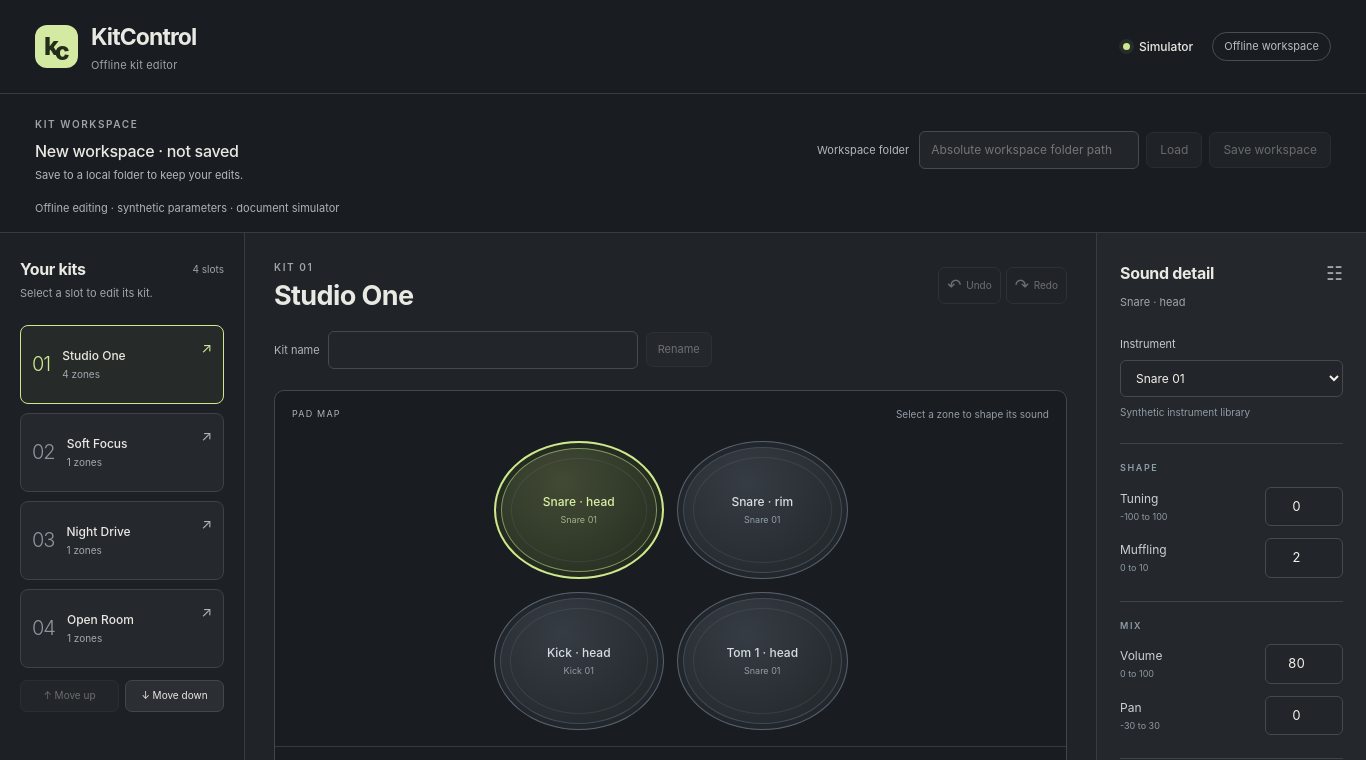
it: kit editing through the Rust dispatcher › sends parameter edits to the core and restores complete documents on undo and redo
Check: the heading "Studio One" is shown, box top-left (274, 280), bottom-right (413, 312)
Replace the text in the number field labelled "Tuning" with "12" at (1304, 506), box top-left (1265, 486), bottom-right (1343, 526)
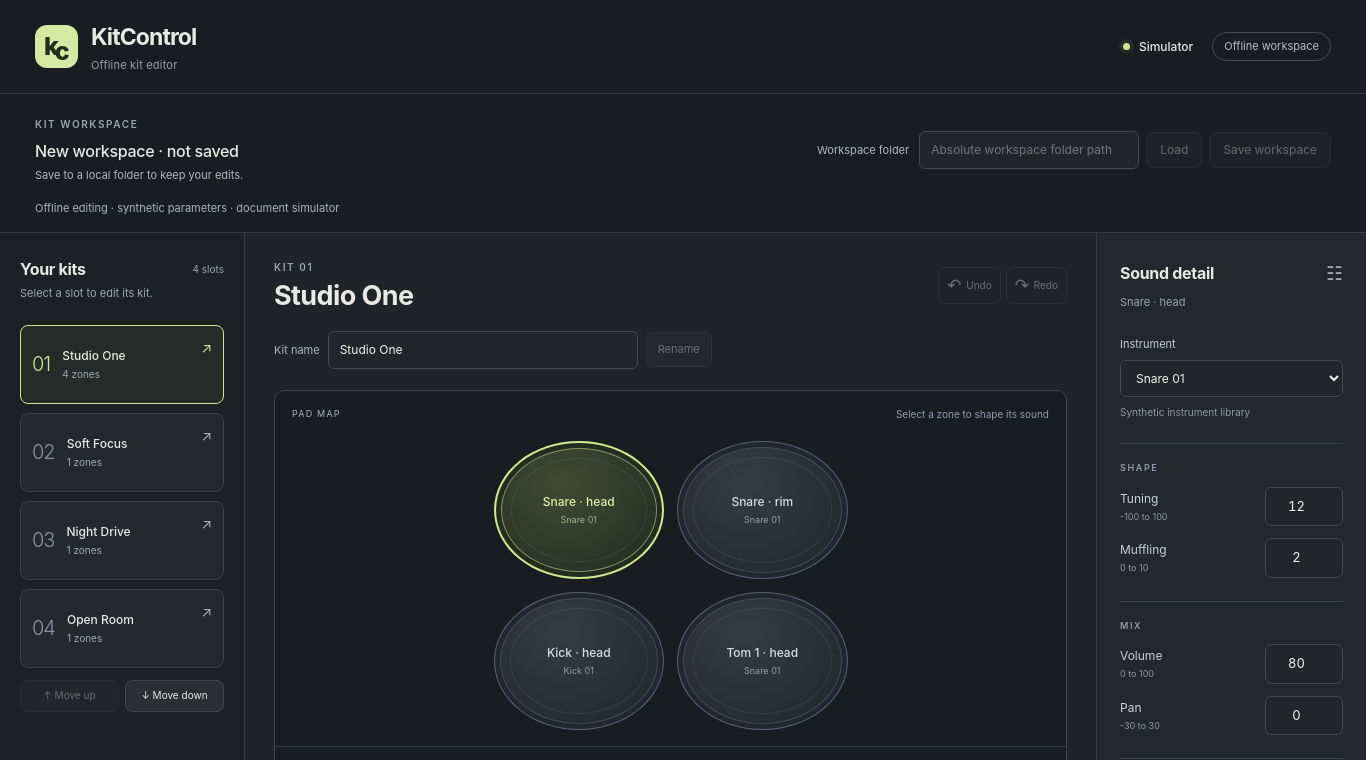
Leave the number field labelled "Tuning", box top-left (1265, 486), bottom-right (1343, 526)
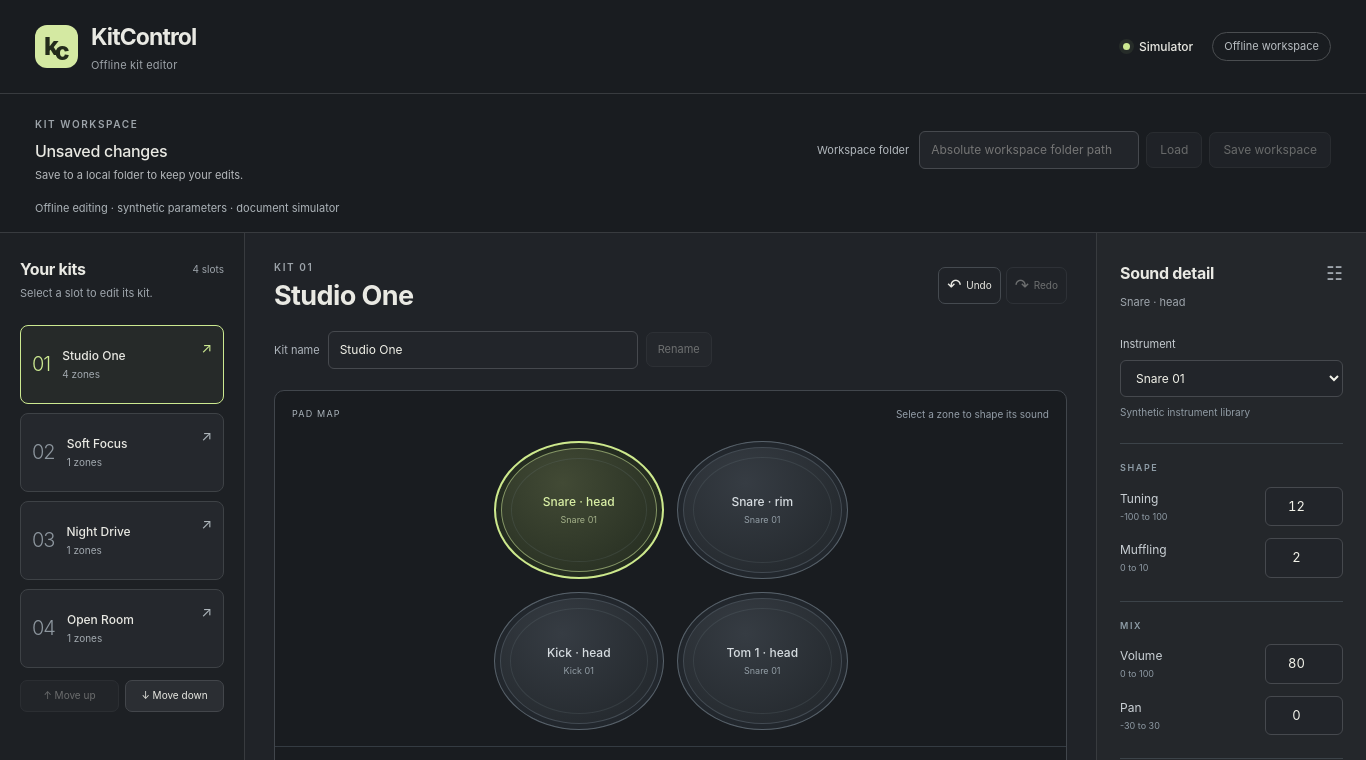
Check: the button "↶ Undo" is enabled
Click the button "↶ Undo" at (969, 286), box top-left (938, 267), bottom-right (1001, 304)
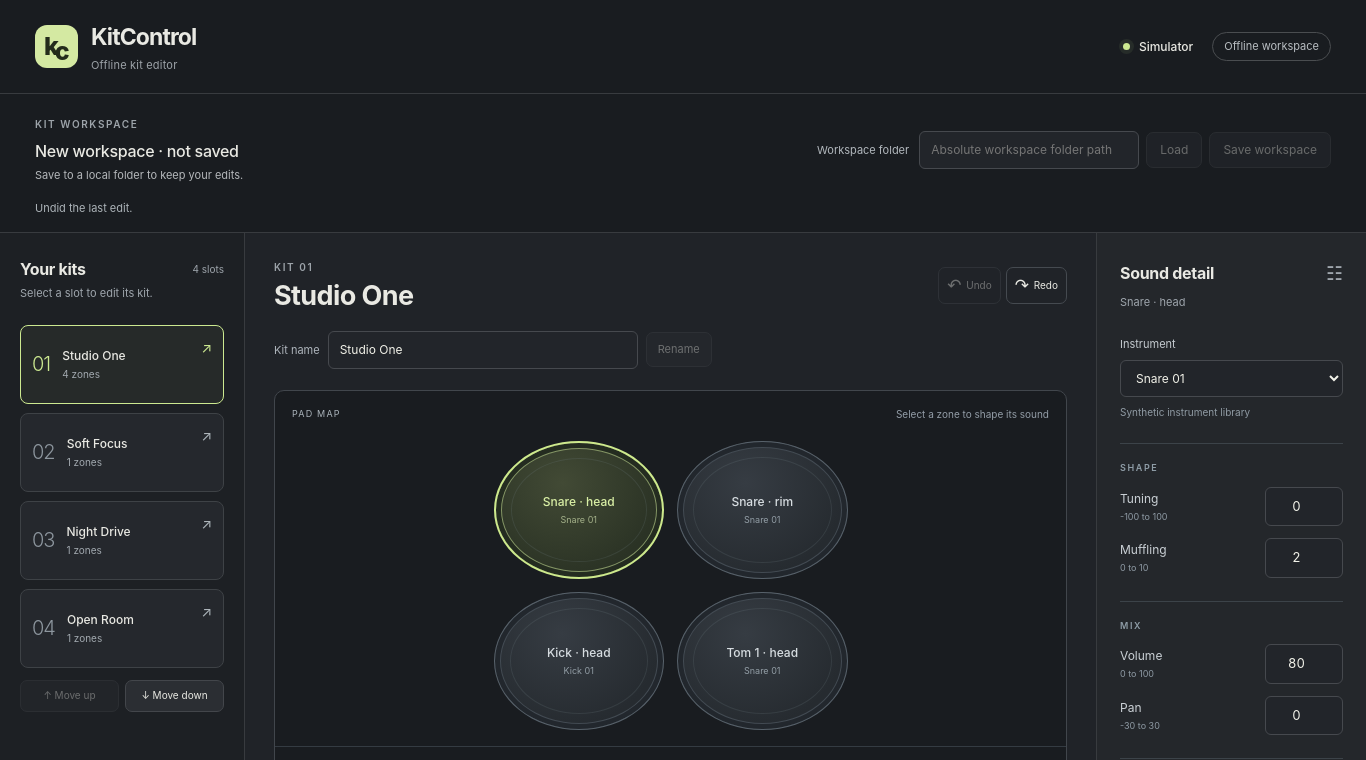
Check: the number field labelled "Tuning" holds "0", box top-left (1265, 486), bottom-right (1343, 526)
Click the button "↷ Redo" at (1036, 286), box top-left (1006, 267), bottom-right (1067, 304)
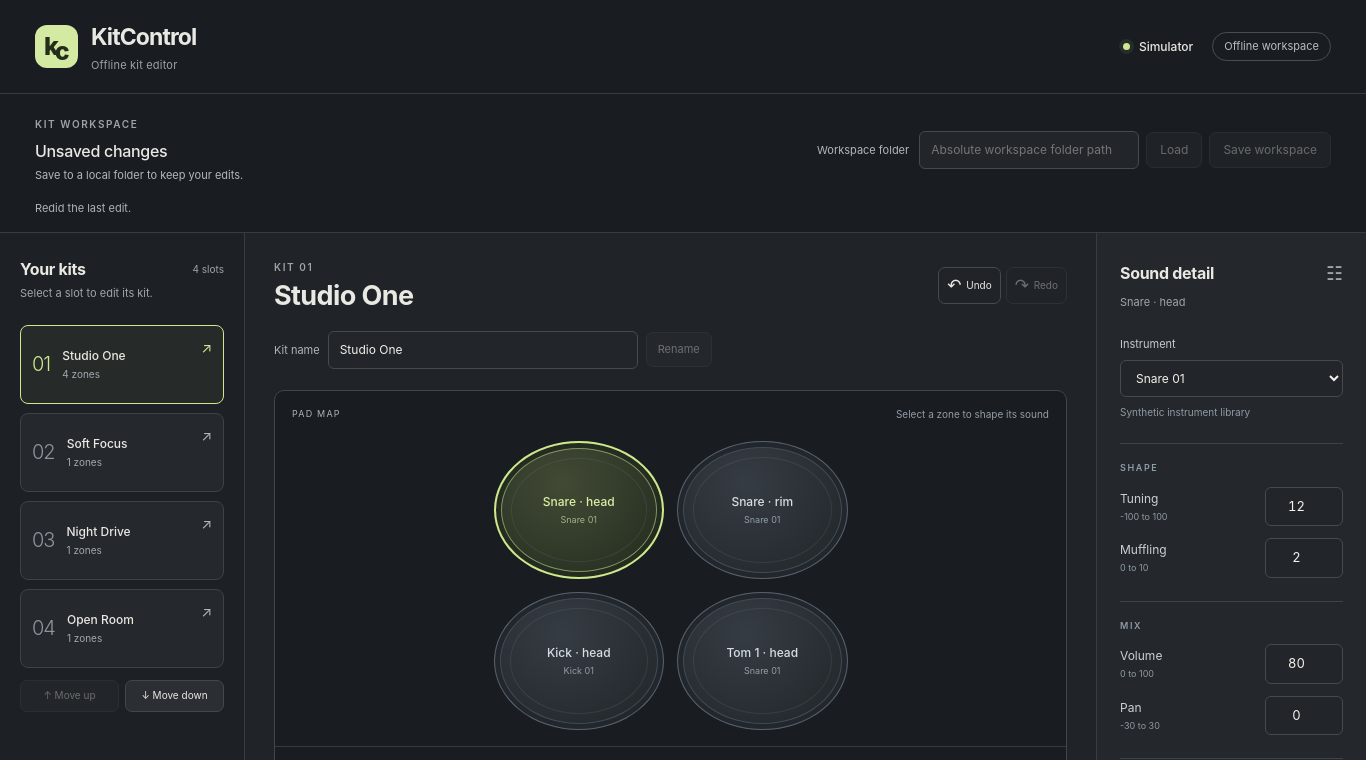
Check: the number field labelled "Tuning" holds "12", box top-left (1265, 486), bottom-right (1343, 526)
